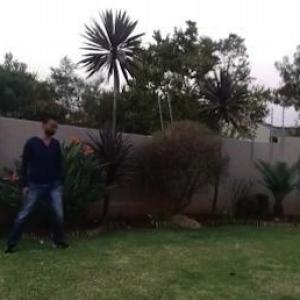follow: (21, 104, 64, 255)
